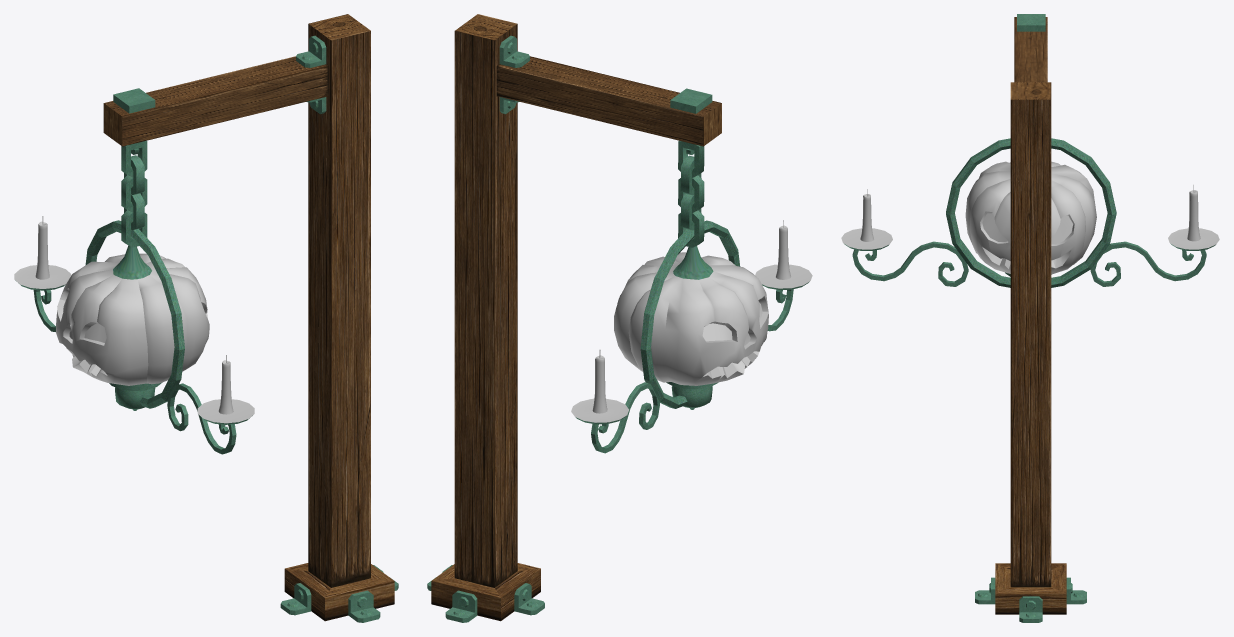
The model's file is Rooftop_Pole_Light.fbx.
3 views of the same model, side by side, from view 1: azimuth 30°, elevation 25°; view 2: azimuth 150°, elevation 25°; view 3: azimuth 270°, elevation 25° (orthographic). The views are drawn at different scales.
Parts seen in each view (by area): view 1: Rooftop_Pole_Light, Rooftop_Pole_Light_Part; view 2: Rooftop_Pole_Light, Rooftop_Pole_Light_Part; view 3: Rooftop_Pole_Light, Rooftop_Pole_Light_Part.
Part boxes in pixels (x1,y1,x2,y2): Rooftop_Pole_Light: [103, 14, 398, 622]; Rooftop_Pole_Light_Part: [14, 140, 254, 454]; Rooftop_Pole_Light: [427, 14, 721, 622]; Rooftop_Pole_Light_Part: [571, 140, 812, 453]; Rooftop_Pole_Light: [975, 14, 1086, 622]; Rooftop_Pole_Light_Part: [841, 138, 1219, 287].
Size of the model in its own units: 85.22 by 144 by 96.94.
